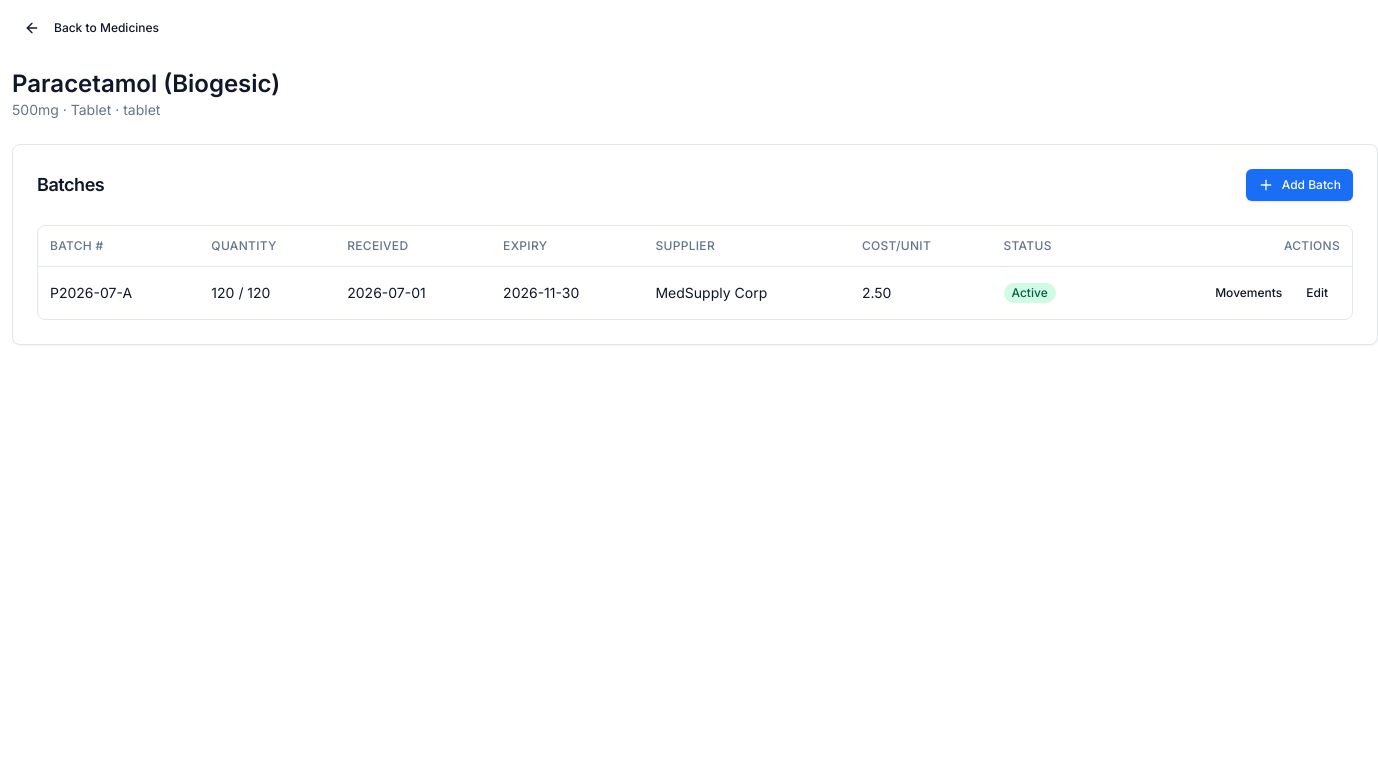
Scenario: MedicineDetailPage › shows an empty state when a batch has no movements
This screenshot has width=1378, height=780.
Expected: the text "P2026-07-A" is shown, [38,266,199,318]
Click the button "Movements": [1249, 292] box [1203,276,1294,308]
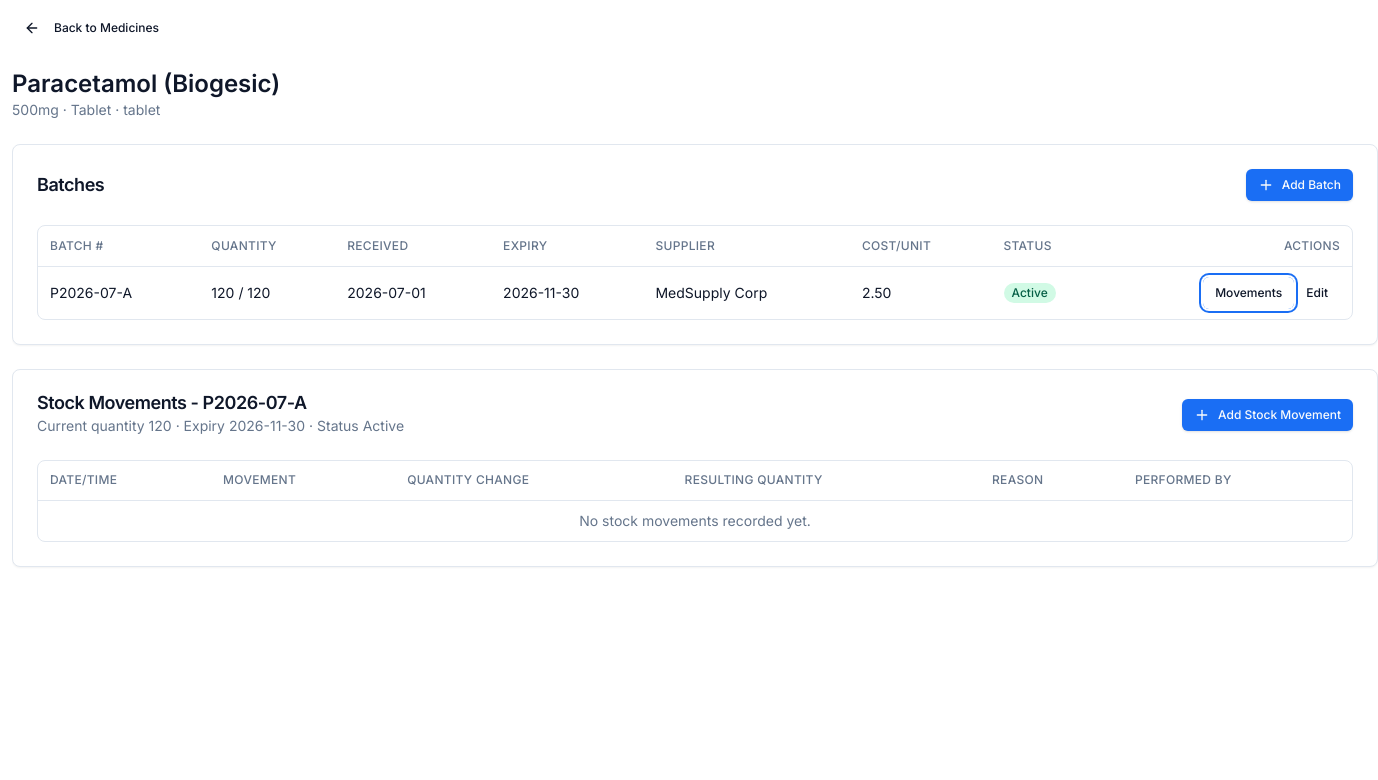
Result: the text "No stock movements recorded yet." is shown at [38,500,1352,541]
